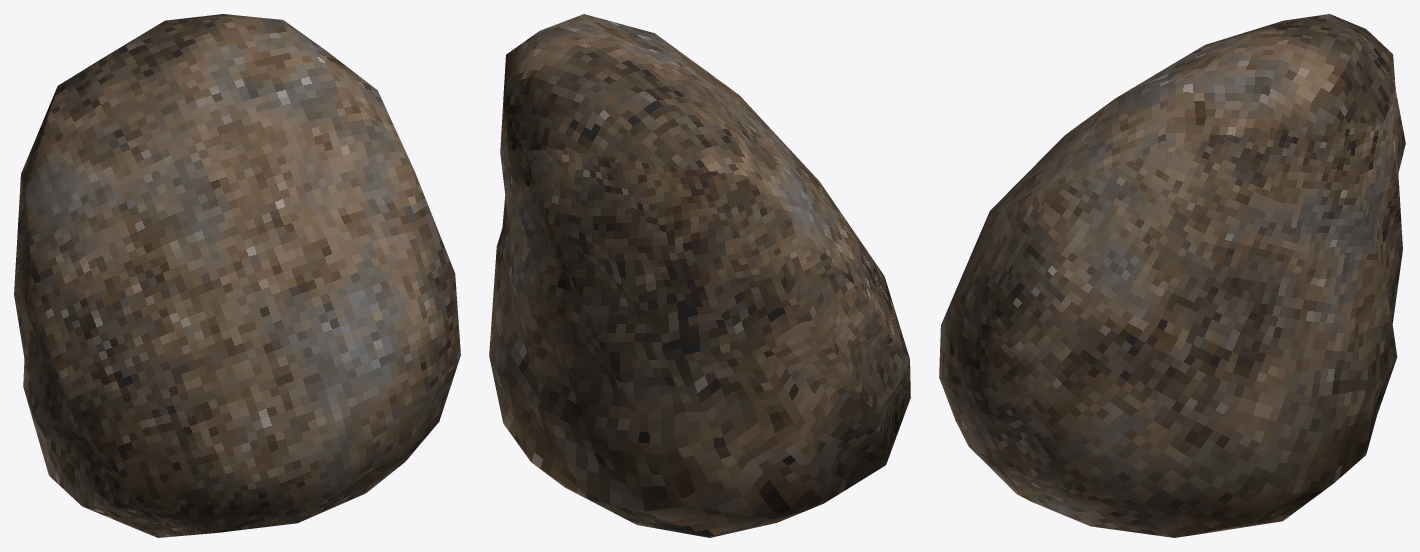
Rendered from fol4.glb.
3 renders of one model, left to right at view 1: azimuth 30°, elevation 25°; view 2: azimuth 150°, elevation 25°; view 3: azimuth 270°, elevation 25°, orthographic. The views are drawn at different scales.
Visible parts, largest first — view 1: rock.002; view 2: rock.002; view 3: rock.002.
Boxes of the visible parts, box(x1,y1,x2,y2) form: rock.002: box(14, 14, 460, 537); rock.002: box(489, 14, 910, 537); rock.002: box(939, 14, 1405, 537).
Size of the model in its own units: 0.7962 by 0.9063 by 0.7717.
1 material, 1 textured.
